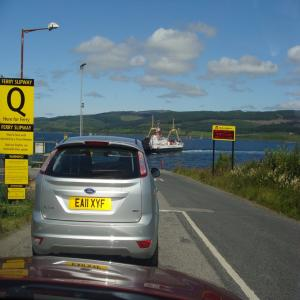Vehicle-registration-plate: (70, 198, 112, 212)
